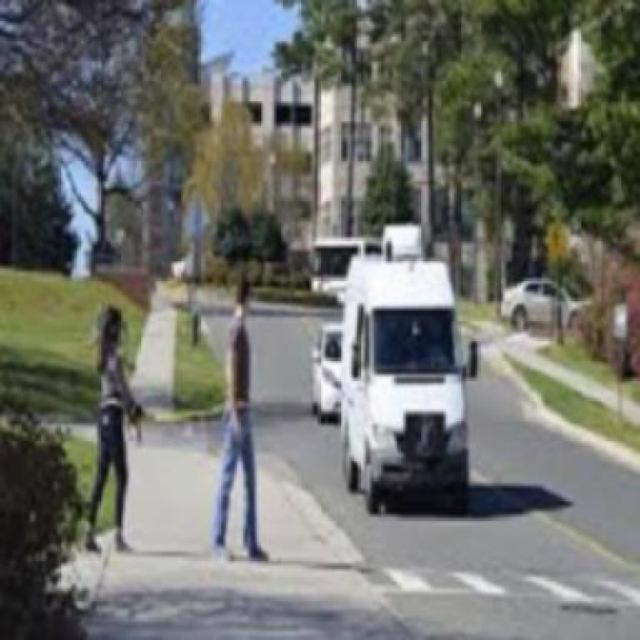Person: (209, 278, 273, 565), (80, 300, 145, 551)
